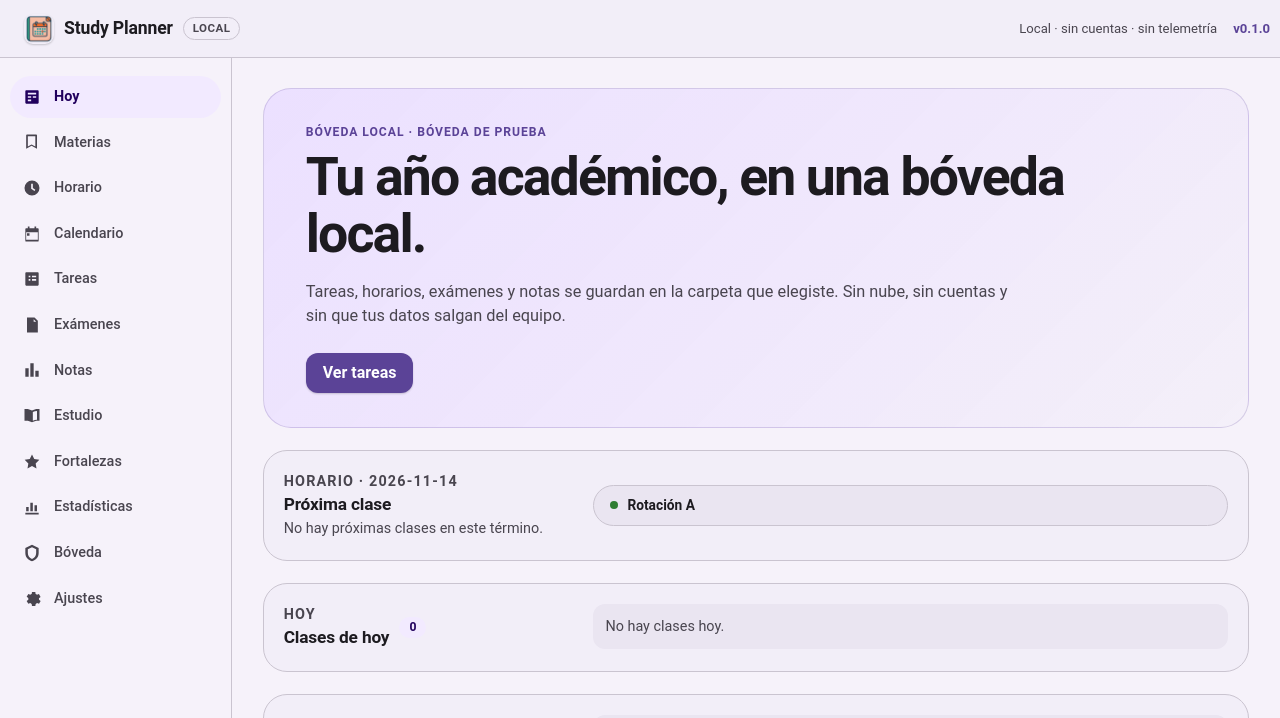
Test: App con IPC de Tauri › marca una tarea como hecha y la mueve a Hechas
Click the button "Tareas": [116, 279] box [10,258,221,300]
(page scrolled)
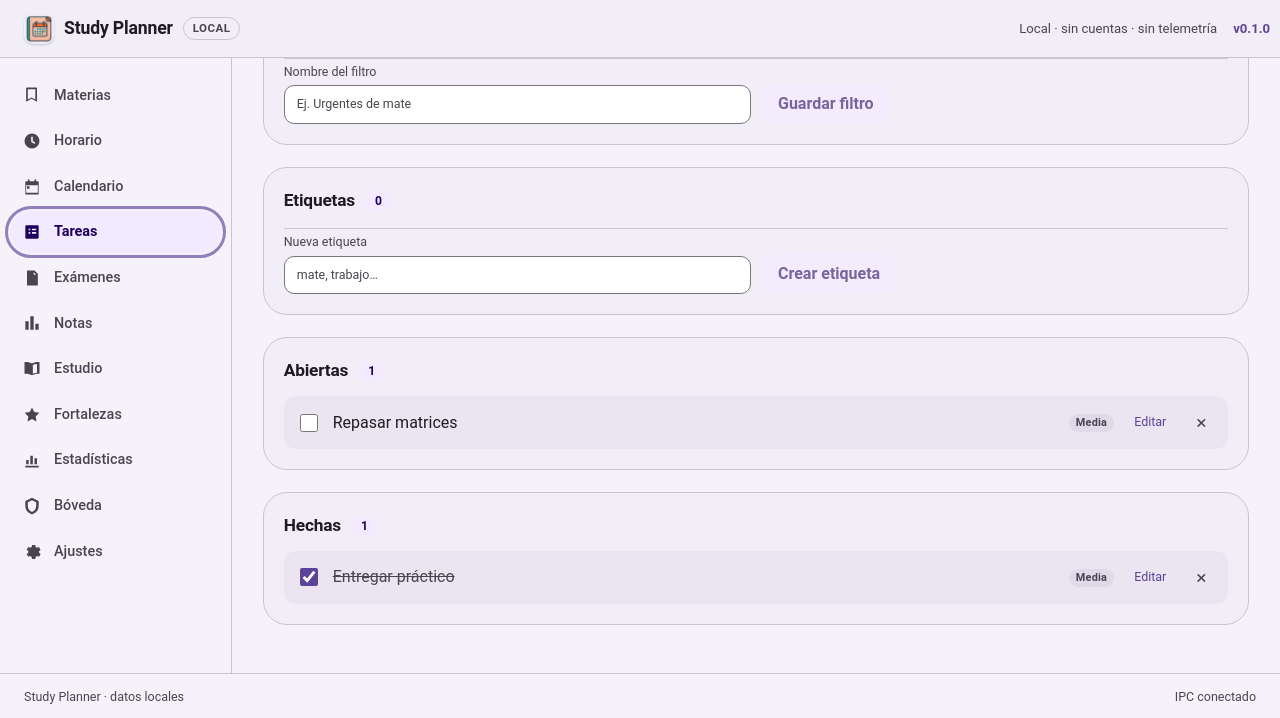
Click the checkbox named "Completar «Repasar matrices»": [309, 423] box [300,414,318,432]
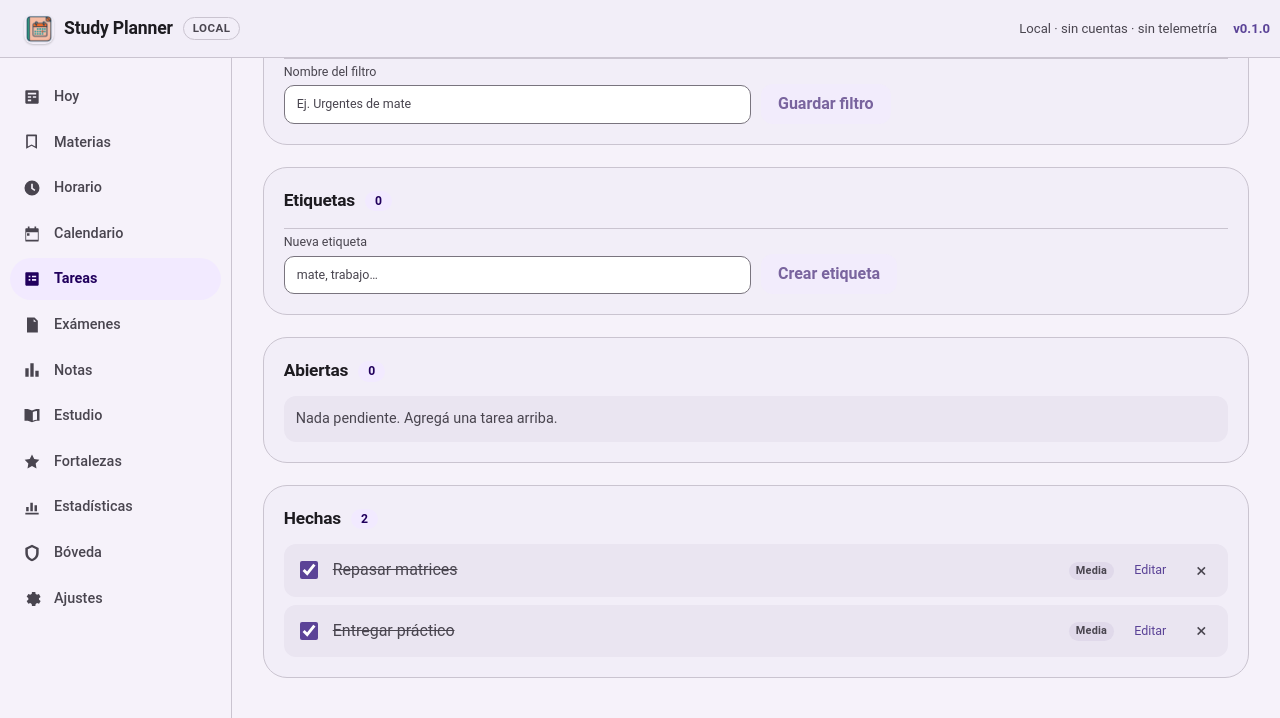
Result: the heading "Hechas" is shown at [284,506,341,532]
Result: the checkbox named "Reabrir «Repasar matrices»" is checked at [300,561,318,579]
